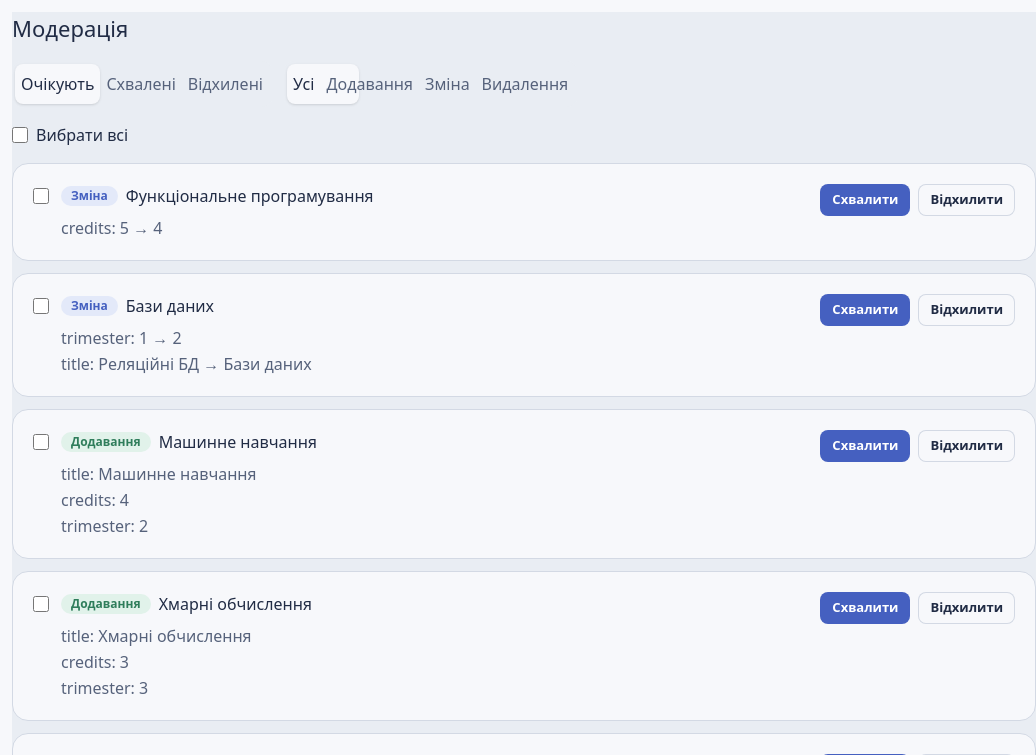
Test: тости успіху в адмінці › 409 при розгляді запису тосту не дає
Click the button "Схвалити" in the row of "Функціональне програмування" at point(865, 200), box [820,184,910,216]
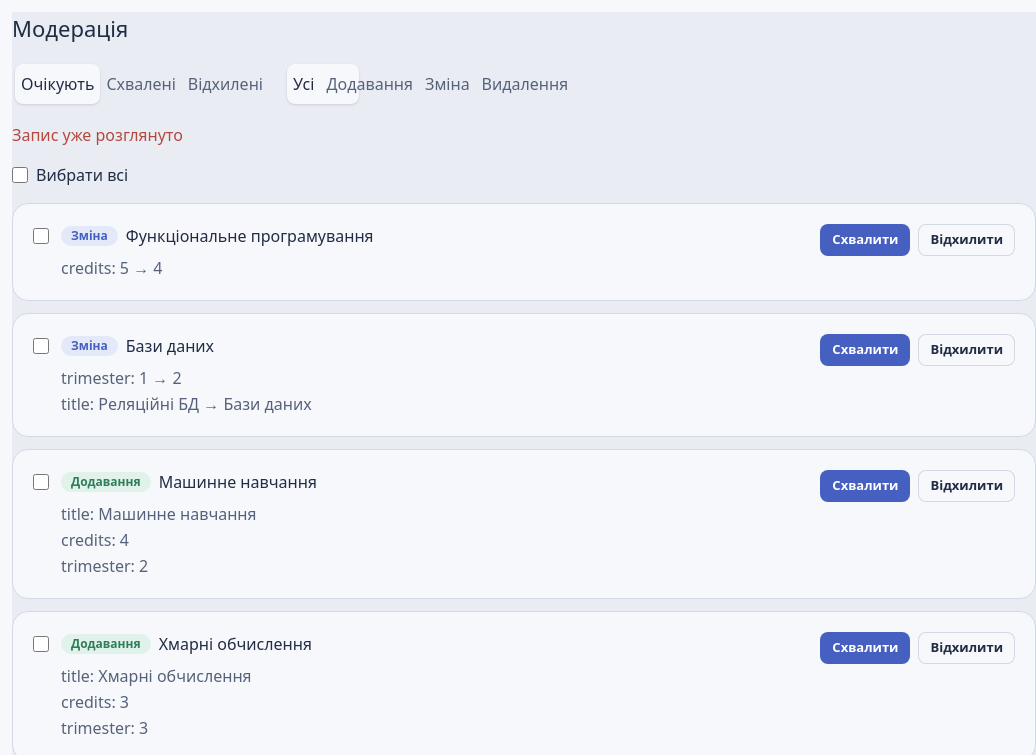
Now the message "Запис уже розглянуто" is shown, box [12,124,183,146]
